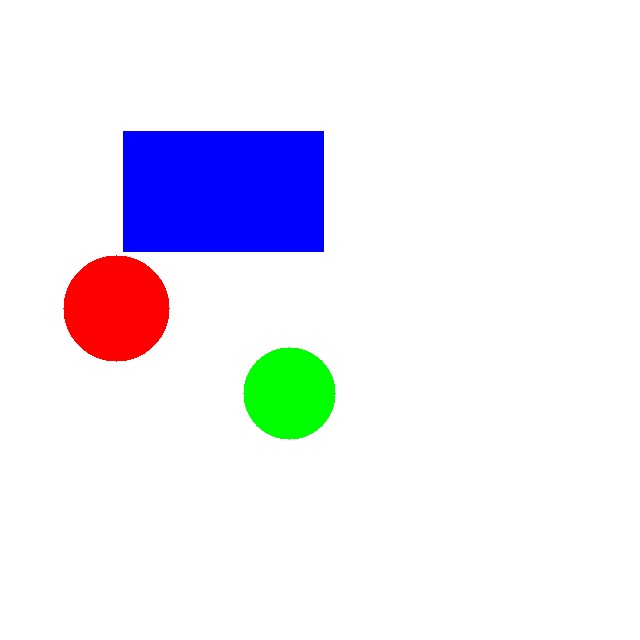cartao: (123, 131, 323, 251)
rosca_externa: (243, 347, 335, 439)
rosca_interna: (63, 255, 169, 361)
